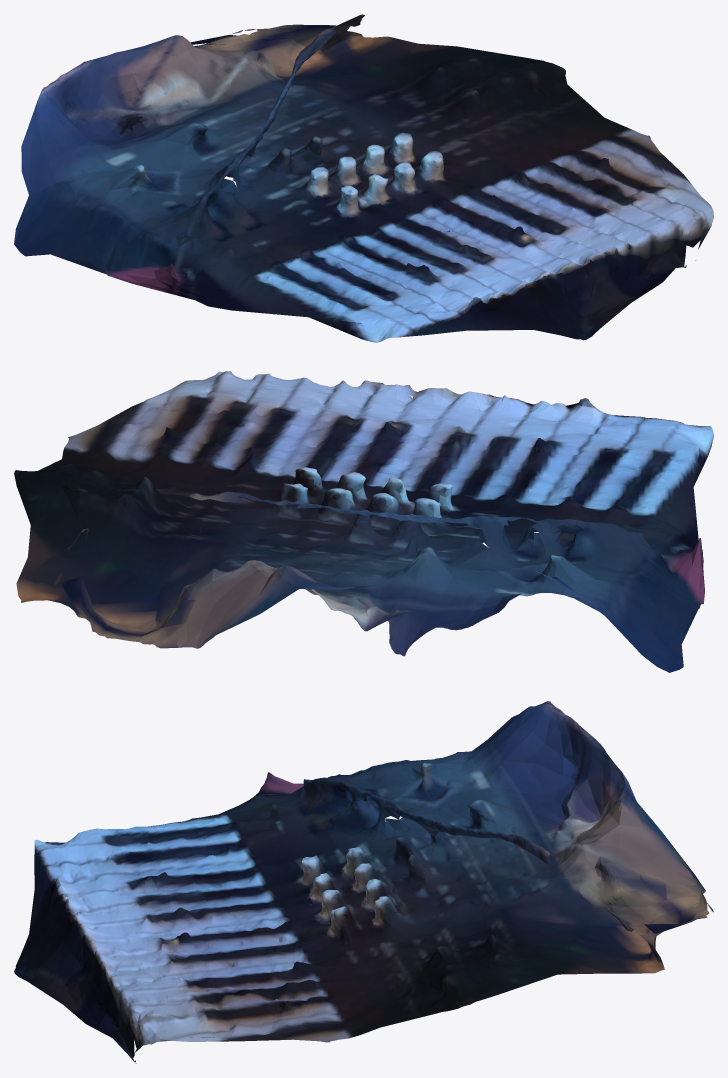
File: Scaniverse_2022-08-21_122332.glb
3 renders of one model, top to bottom at view 1: azimuth 30°, elevation 25°; view 2: azimuth 150°, elevation 25°; view 3: azimuth 270°, elevation 25°, orthographic. The views are drawn at different scales.
Parts seen in each view (by area): view 1: mesh; view 2: mesh; view 3: mesh.
Part boxes in pixels (<box>): mesh: <box>14,14,713,342</box>; mesh: <box>14,371,713,672</box>; mesh: <box>14,701,713,1063</box>.
Bounding box in the file's own units: 0.4448 × 0.1031 × 0.4595.
Materials: 1 (1 with a texture image).
